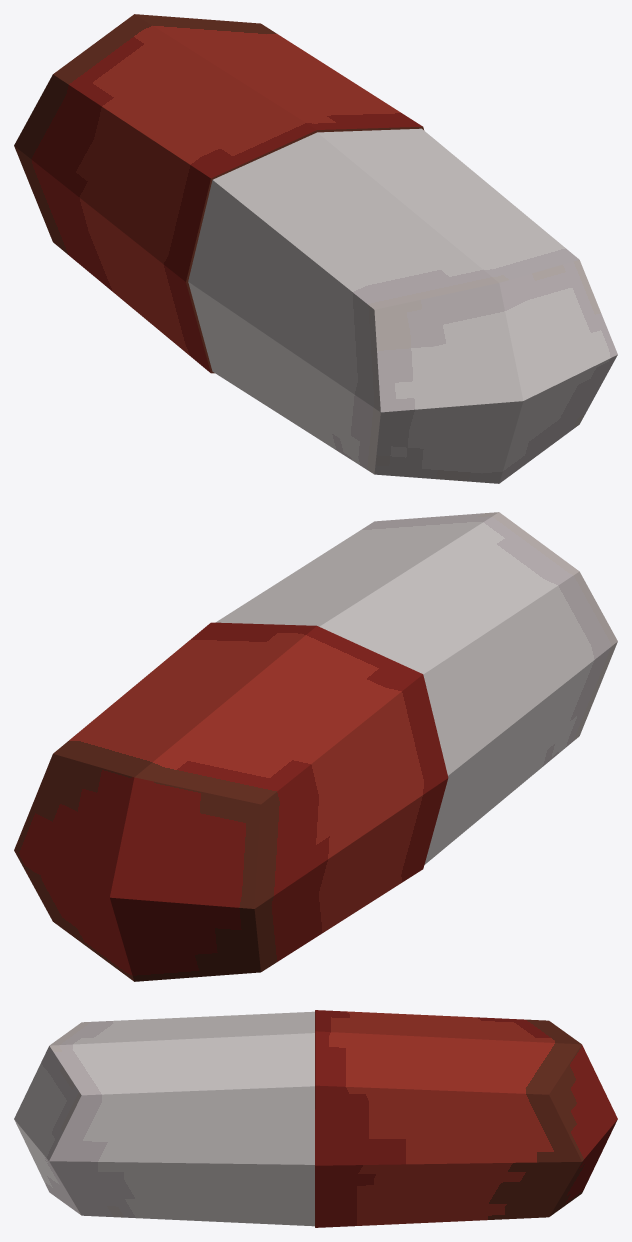
Rendered from TabletMadic1.2.fbx.
The picture shows the model from 3 angles, top to bottom: view 1: azimuth 30°, elevation 25°; view 2: azimuth 150°, elevation 25°; view 3: azimuth 270°, elevation 25°; orthographic projection. The views are drawn at different scales.
Visible parts, largest first — view 1: Cube.001; view 2: Cube.001; view 3: Cube.001.
Part boxes in pixels (box(x1,y1,x2,y2)): Cube.001: box(14, 14, 617, 483); Cube.001: box(14, 512, 617, 981); Cube.001: box(14, 1010, 617, 1227).
Bounding box in the file's own units: 31.49 × 27.52 × 85.94.
1 material, 1 textured.
